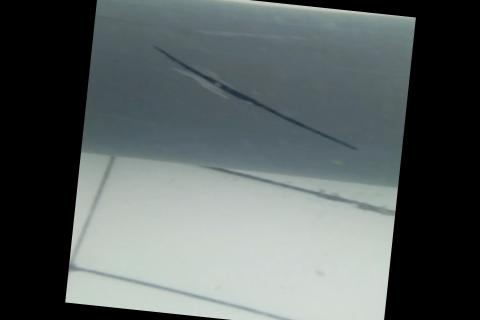keretakan: (138, 42, 365, 152)
